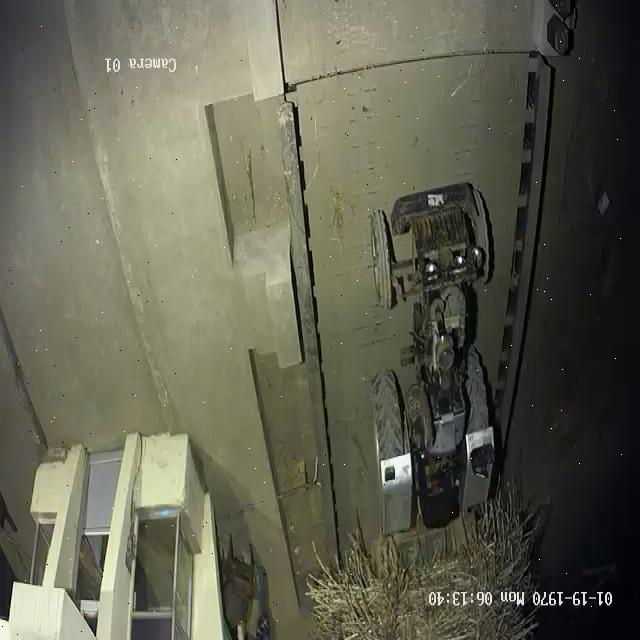Tratores - v5 YOLO V8L 2024-11-13: (363, 178, 494, 530)
